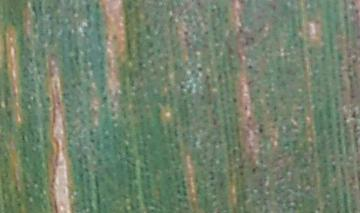tarspot: (257, 122, 267, 134), (238, 164, 246, 178), (232, 96, 240, 105), (251, 166, 259, 174), (247, 63, 255, 71)
